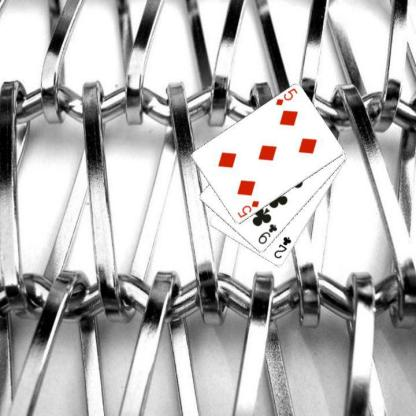2C: (271, 234, 292, 260)
5D: (272, 85, 298, 107), (235, 198, 260, 220)
9C: (256, 221, 278, 246)
